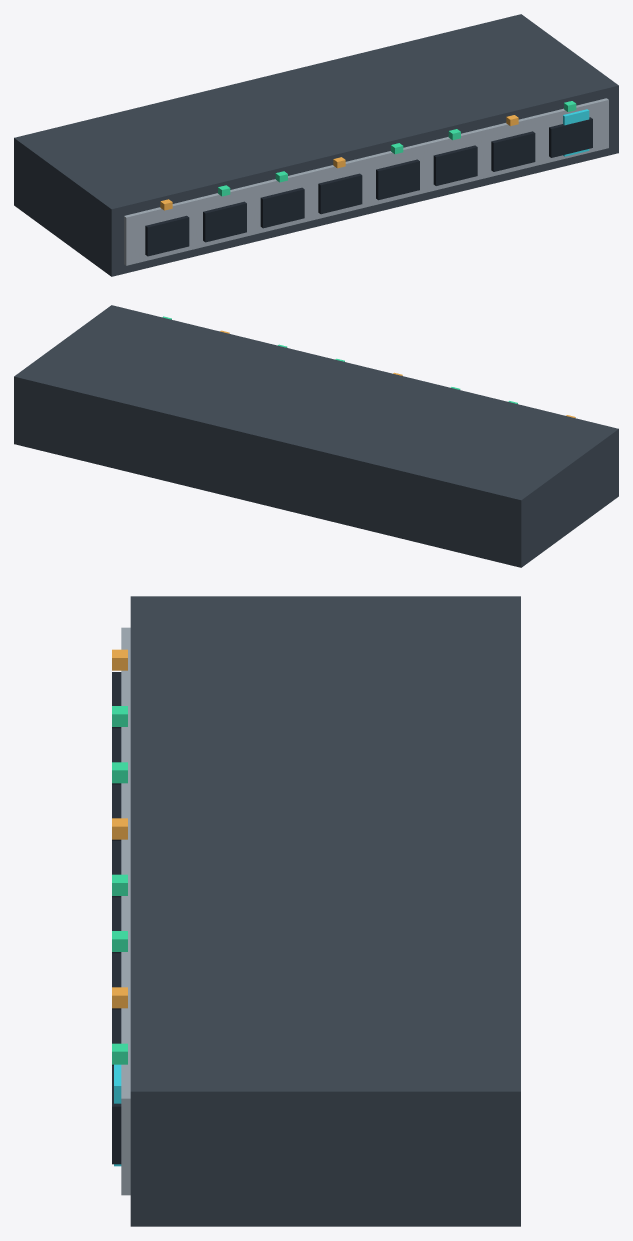
The model's file is switch.glb.
3 renders of one model, top to bottom at view 1: azimuth 30°, elevation 25°; view 2: azimuth 150°, elevation 25°; view 3: azimuth 270°, elevation 25°, orthographic. The views are drawn at different scales.
Parts seen in each view (by area): view 1: Switch chassis, Front plate, Ethernet port 3, Ethernet port 7, Ethernet port 1, Ethernet port 4, Ethernet port 6, Ethernet port 5, Ethernet port 2, Ethernet port 8, Brand stripe; view 2: Switch chassis; view 3: Switch chassis, Front plate.
Boxes of the visible parts, x1,y1,x2,y2 form: Switch chassis: (14, 14, 618, 276); Front plate: (124, 98, 608, 265); Ethernet port 3: (260, 187, 304, 228); Ethernet port 7: (491, 131, 535, 171); Ethernet port 1: (145, 215, 189, 256); Ethernet port 4: (318, 173, 362, 214); Ethernet port 6: (433, 145, 477, 185); Ethernet port 5: (376, 159, 419, 200); Ethernet port 2: (203, 201, 246, 242); Ethernet port 8: (549, 117, 592, 157); Brand stripe: (563, 109, 589, 156); Switch chassis: (14, 305, 618, 567); Switch chassis: (130, 596, 520, 1226); Front plate: (121, 627, 130, 1195).
Bounding box in the file's own units: 3.3 × 0.42 × 1.15.
